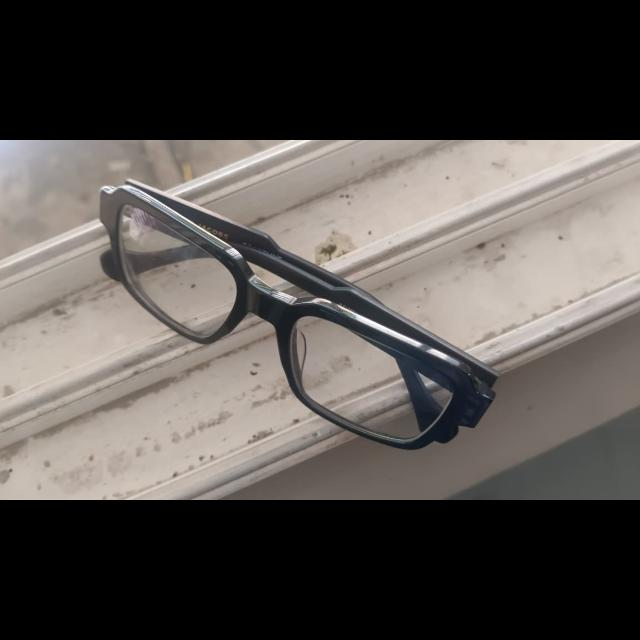glasses: (102, 179, 488, 447)
